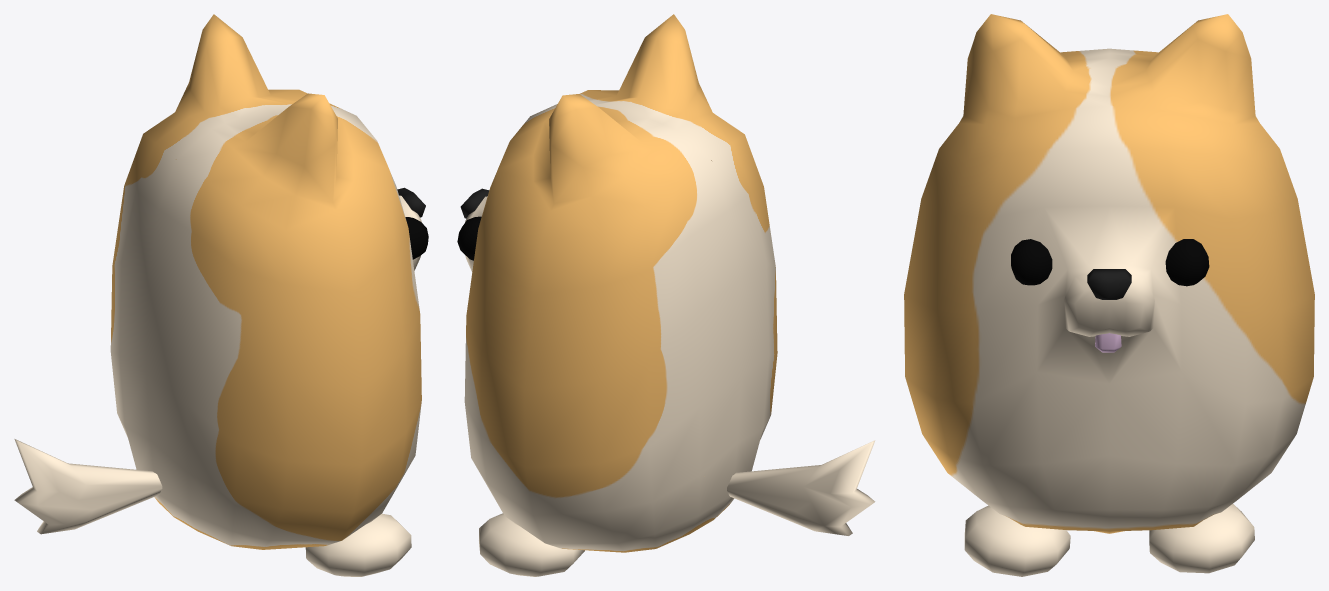
The model's file is perro.fbx.
The picture shows the model from 3 angles, left to right: view 1: azimuth 30°, elevation 25°; view 2: azimuth 150°, elevation 25°; view 3: azimuth 270°, elevation 25°; orthographic projection. The views are drawn at different scales.
Visible parts, largest first — view 1: Perro; view 2: Perro; view 3: Perro.
Part boxes in pixels (box(x1,y1,x2,y2)): Perro: box(14, 14, 428, 576); Perro: box(457, 14, 875, 576); Perro: box(904, 14, 1314, 576).
Bounding box in the file's own units: 270 × 327 × 385.
